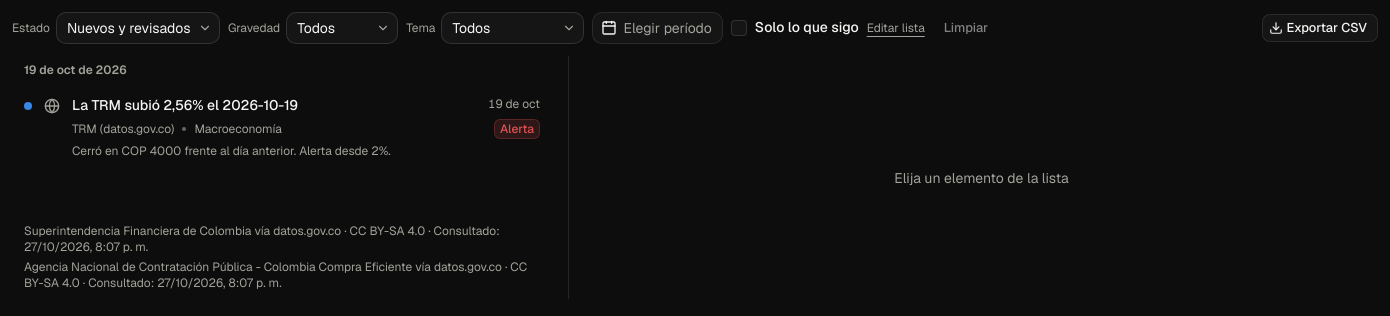
AvisosView › keeps only the followed avisos when 'Solo lo que sigo' is on
Expected: the button "La TRM subió 2,56% el 2026-10-19" is shown, 72,96 -> 298,115
Click the checkbox named "Solo lo que sigo".
click(739, 28)  # box 731,20 -> 747,36
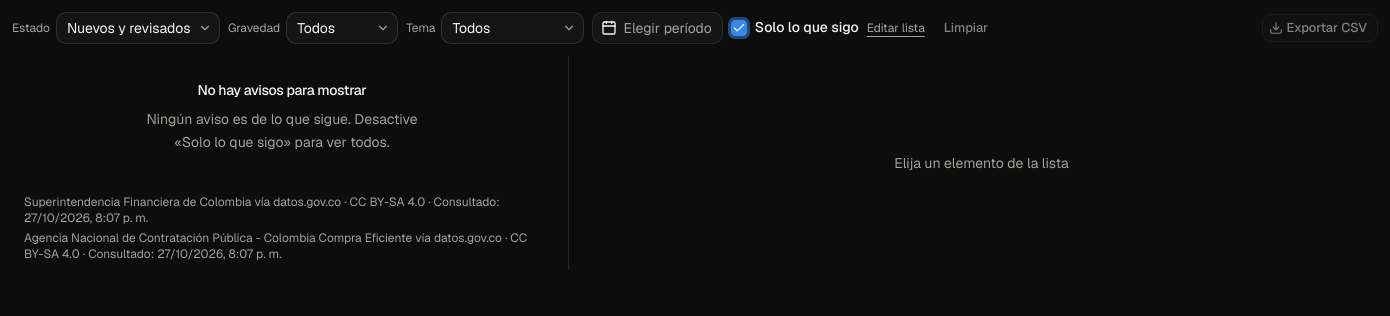
Expected: the button "La TRM subió" is gone
